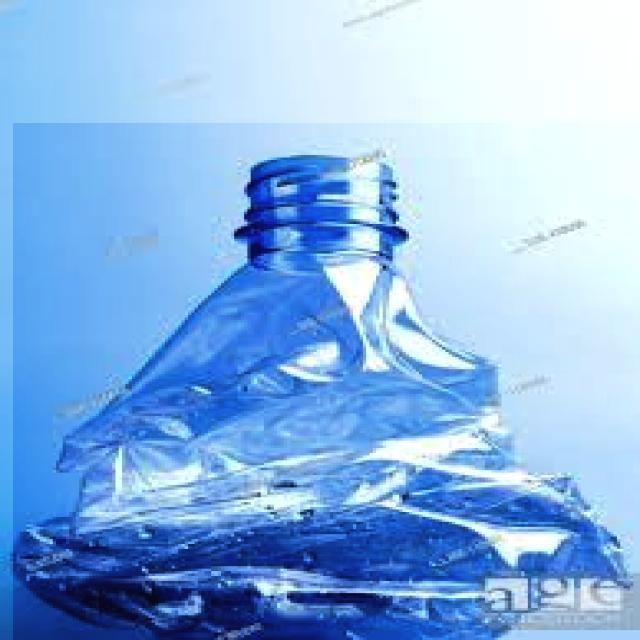BIODEGRADABLE: (13, 123, 640, 640)
